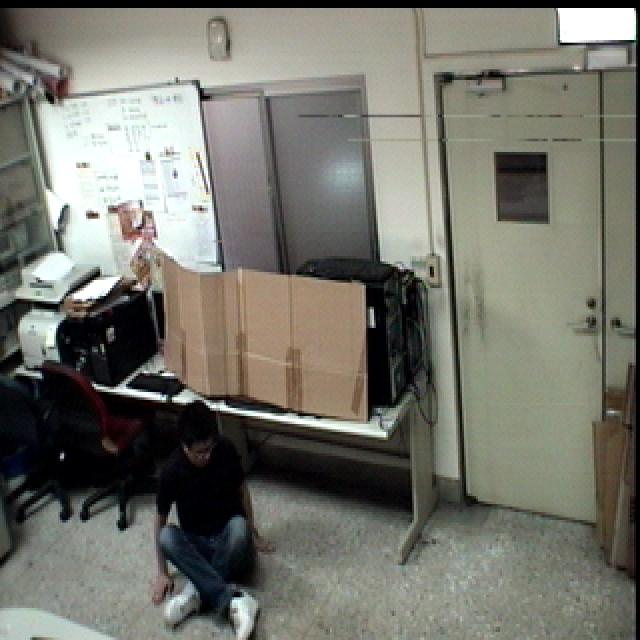sit: (144, 389, 282, 640)
